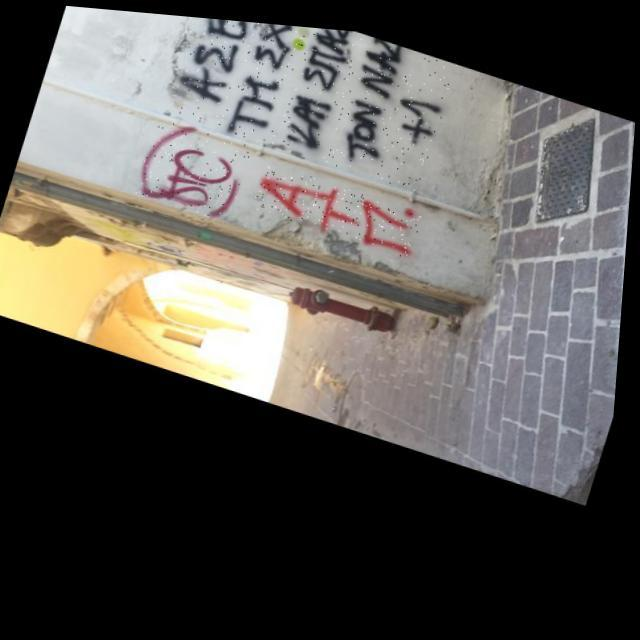-: (168, 12, 459, 187), (251, 156, 428, 252), (135, 112, 255, 221), (287, 20, 316, 49)
